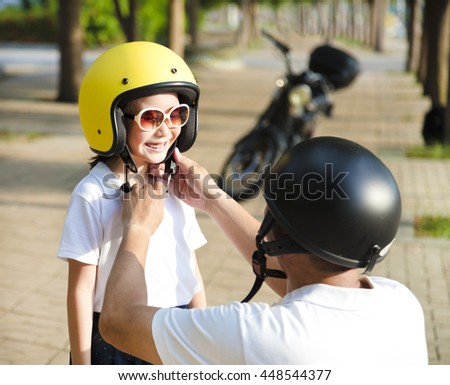helmet: (263, 136, 402, 275), (79, 42, 200, 164)
